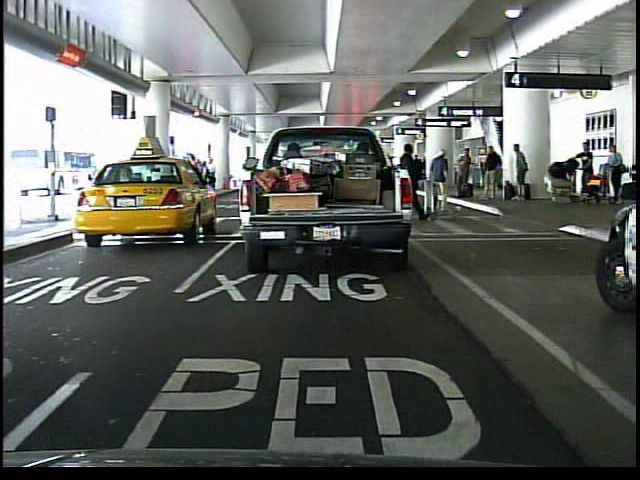person: (392, 138, 433, 222), (427, 146, 453, 216), (601, 142, 627, 210), (574, 141, 600, 201)
